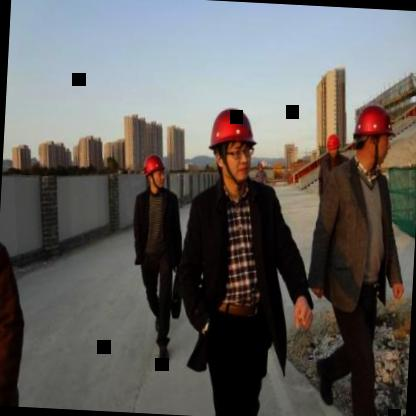helmet: (202, 103, 259, 188), (350, 103, 394, 169), (140, 150, 168, 193), (324, 129, 344, 162)
